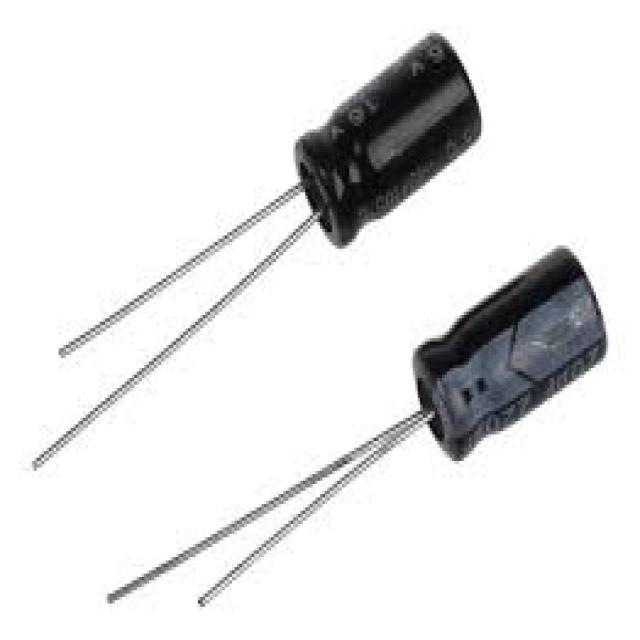Capacitor: (29, 33, 484, 471), (105, 249, 608, 610)
